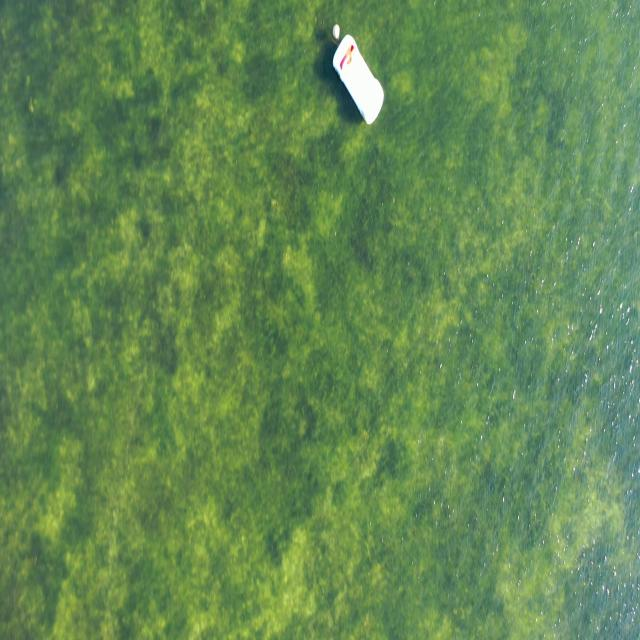boat: (328, 33, 384, 126)
bouy: (332, 22, 342, 41)
